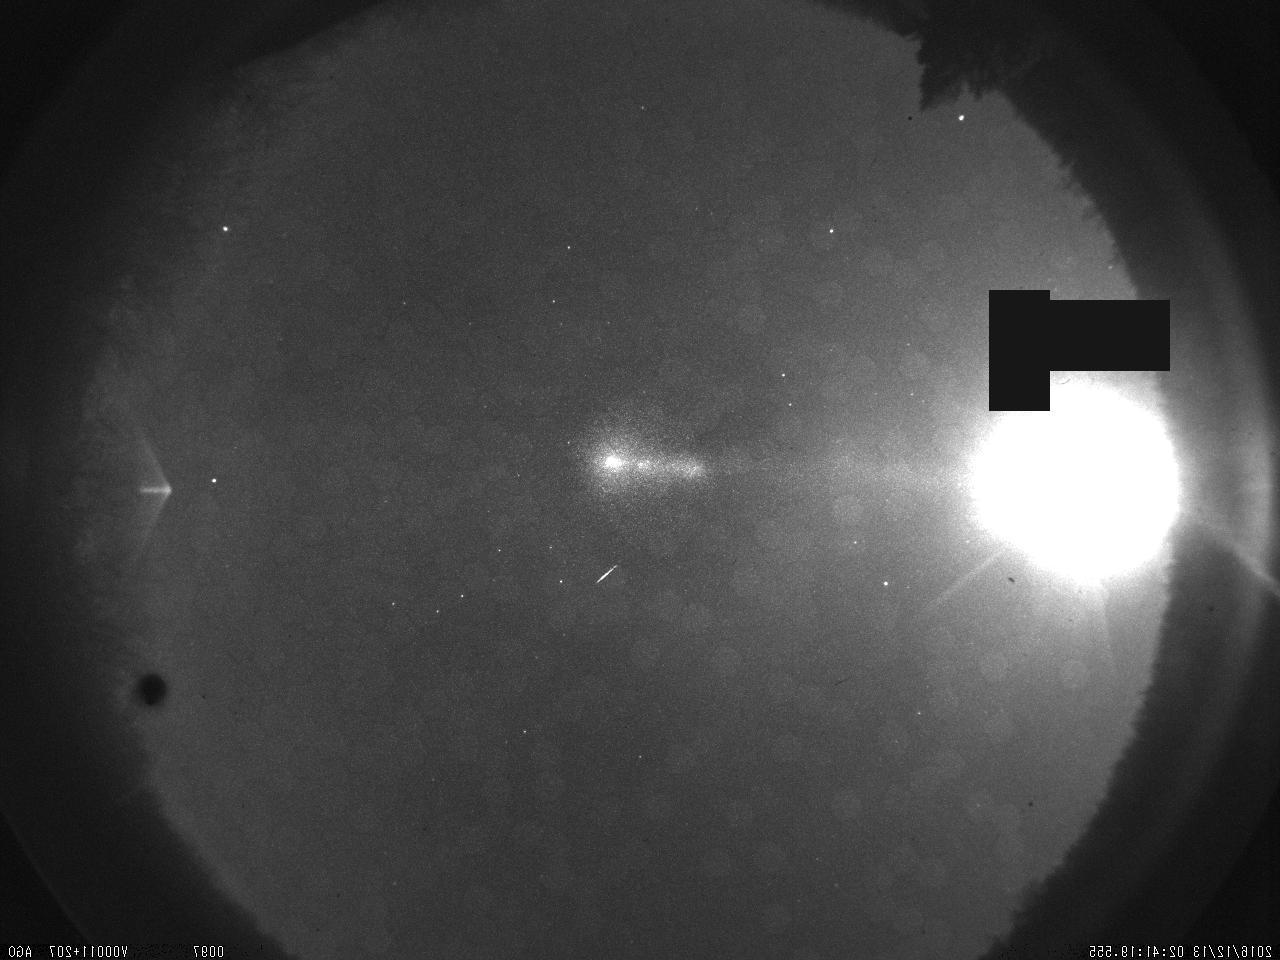meteor: (564, 549, 644, 606)
